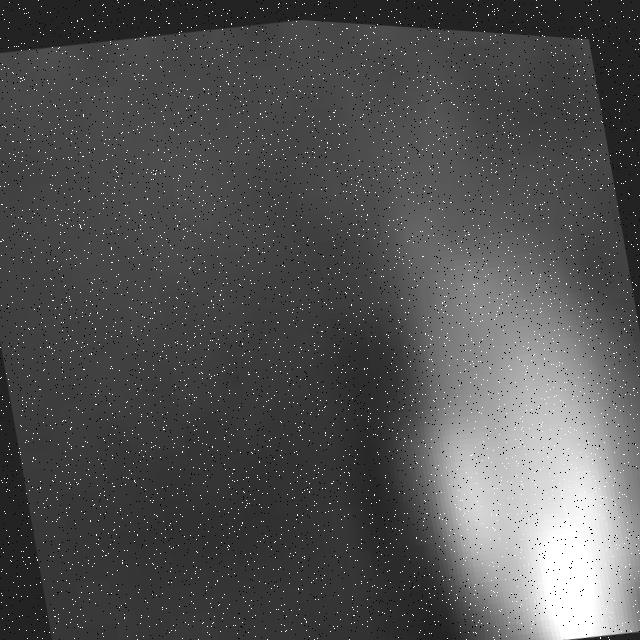person: (375, 151, 640, 640)
